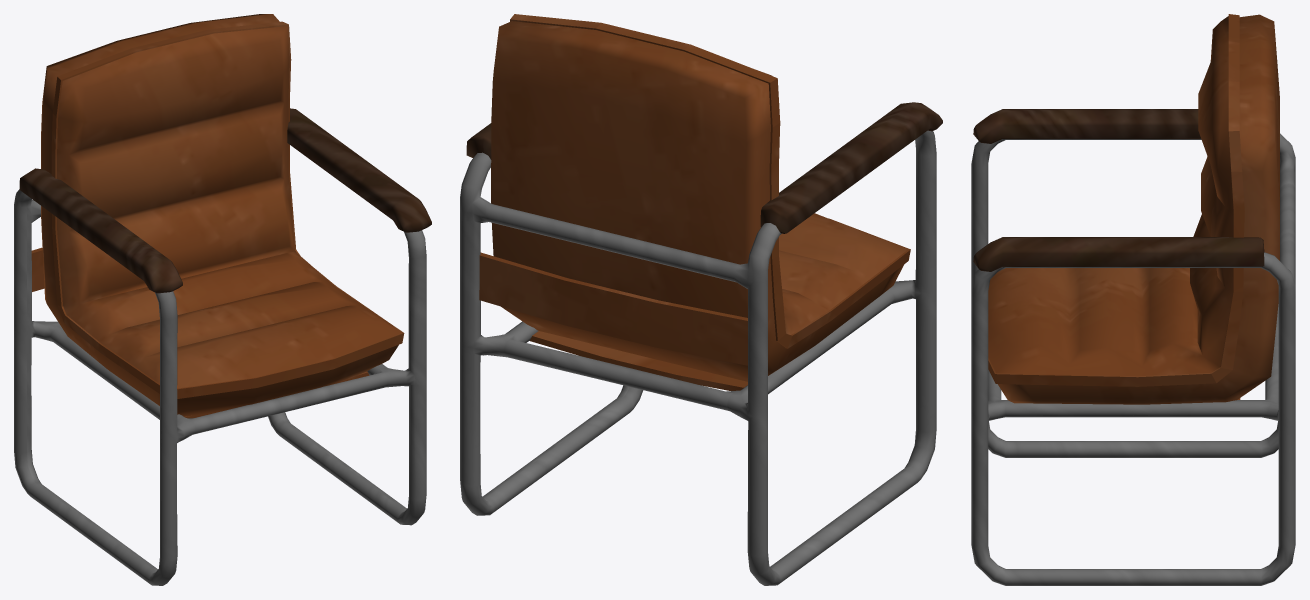
The model's file is arm-chair.glb.
The picture shows the model from 3 angles, left to right: view 1: azimuth 30°, elevation 25°; view 2: azimuth 150°, elevation 25°; view 3: azimuth 270°, elevation 25°; orthographic projection. The views are drawn at different scales.
Visible parts, largest first — view 1: Arm_Chair; view 2: Arm_Chair; view 3: Arm_Chair.
Boxes of the visible parts, box(x1,y1,x2,y2) form: Arm_Chair: box(14, 14, 431, 585); Arm_Chair: box(460, 14, 942, 585); Arm_Chair: box(971, 14, 1295, 585).
Bounding box in the file's own units: 0.8369 × 1.26 × 0.8039.
Materials: 3 (3 with a texture image).
